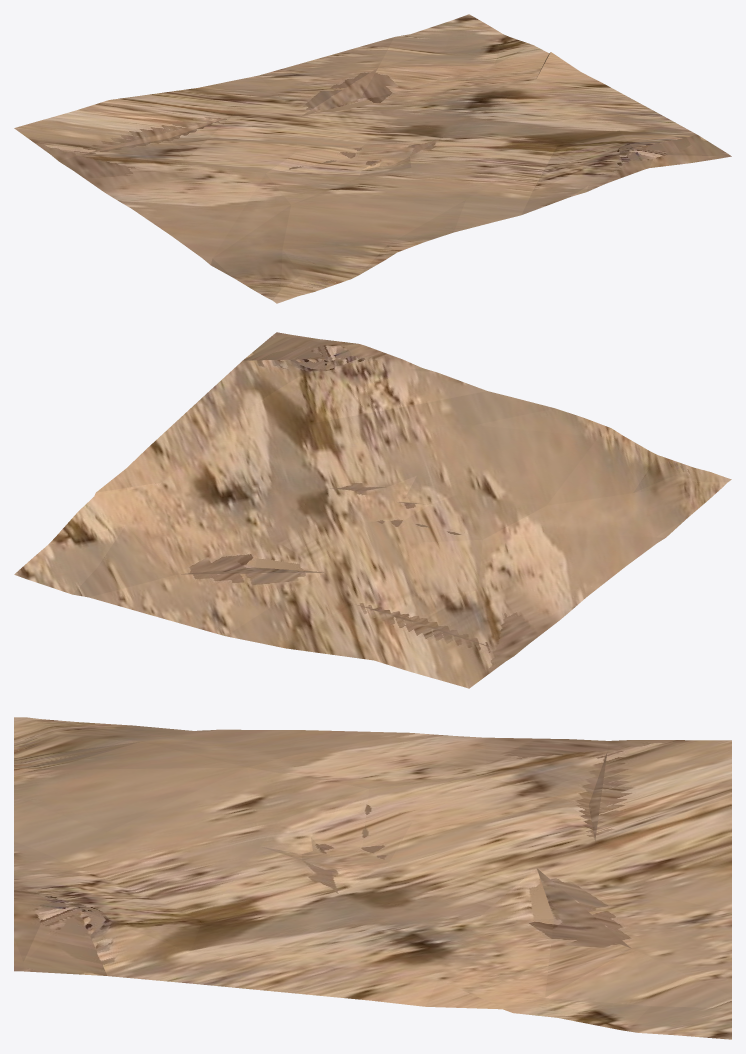
3 views of the same model, one above another, from view 1: azimuth 30°, elevation 25°; view 2: azimuth 150°, elevation 25°; view 3: azimuth 270°, elevation 25° (orthographic). The views are drawn at different scales.
Size of the model in its own units: 1.04 by 0.1523 by 1.04.
3 materials, 3 textured.
